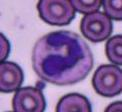N: (32, 30, 92, 84)
